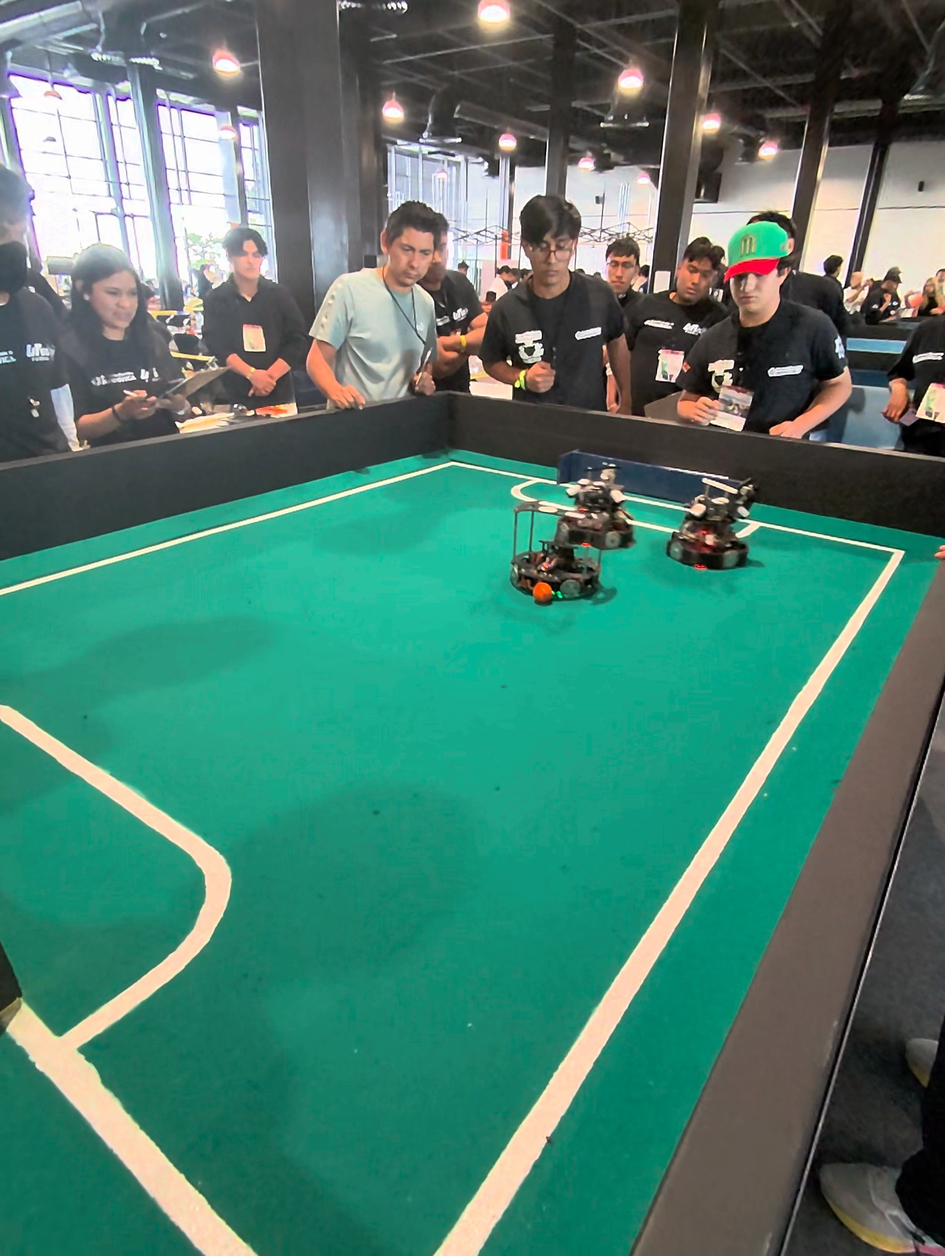Robot: (526, 461, 633, 595), (509, 484, 602, 608), (670, 470, 759, 579), (554, 456, 639, 550)
pelota: (534, 579, 552, 602)
